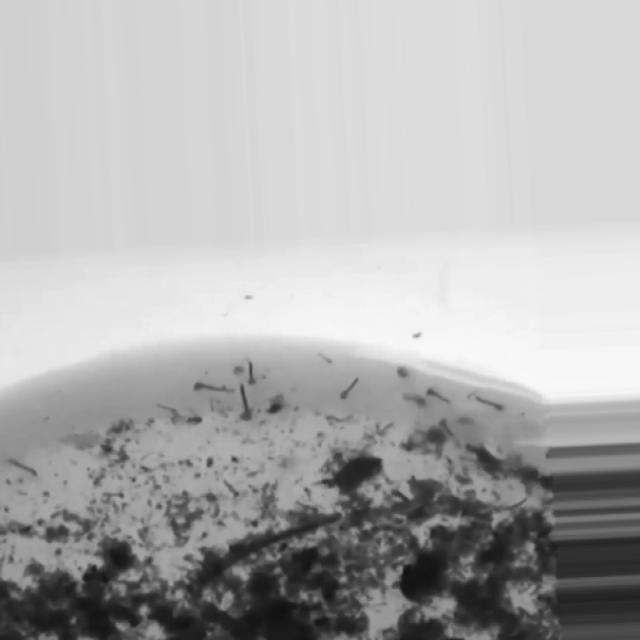larvas: (10, 455, 39, 478), (424, 385, 451, 406), (340, 375, 360, 401), (194, 383, 231, 396), (441, 418, 460, 443), (159, 404, 179, 424), (476, 398, 504, 412), (240, 384, 250, 422), (404, 391, 427, 406), (245, 361, 257, 386), (327, 415, 352, 426), (320, 351, 333, 364)
